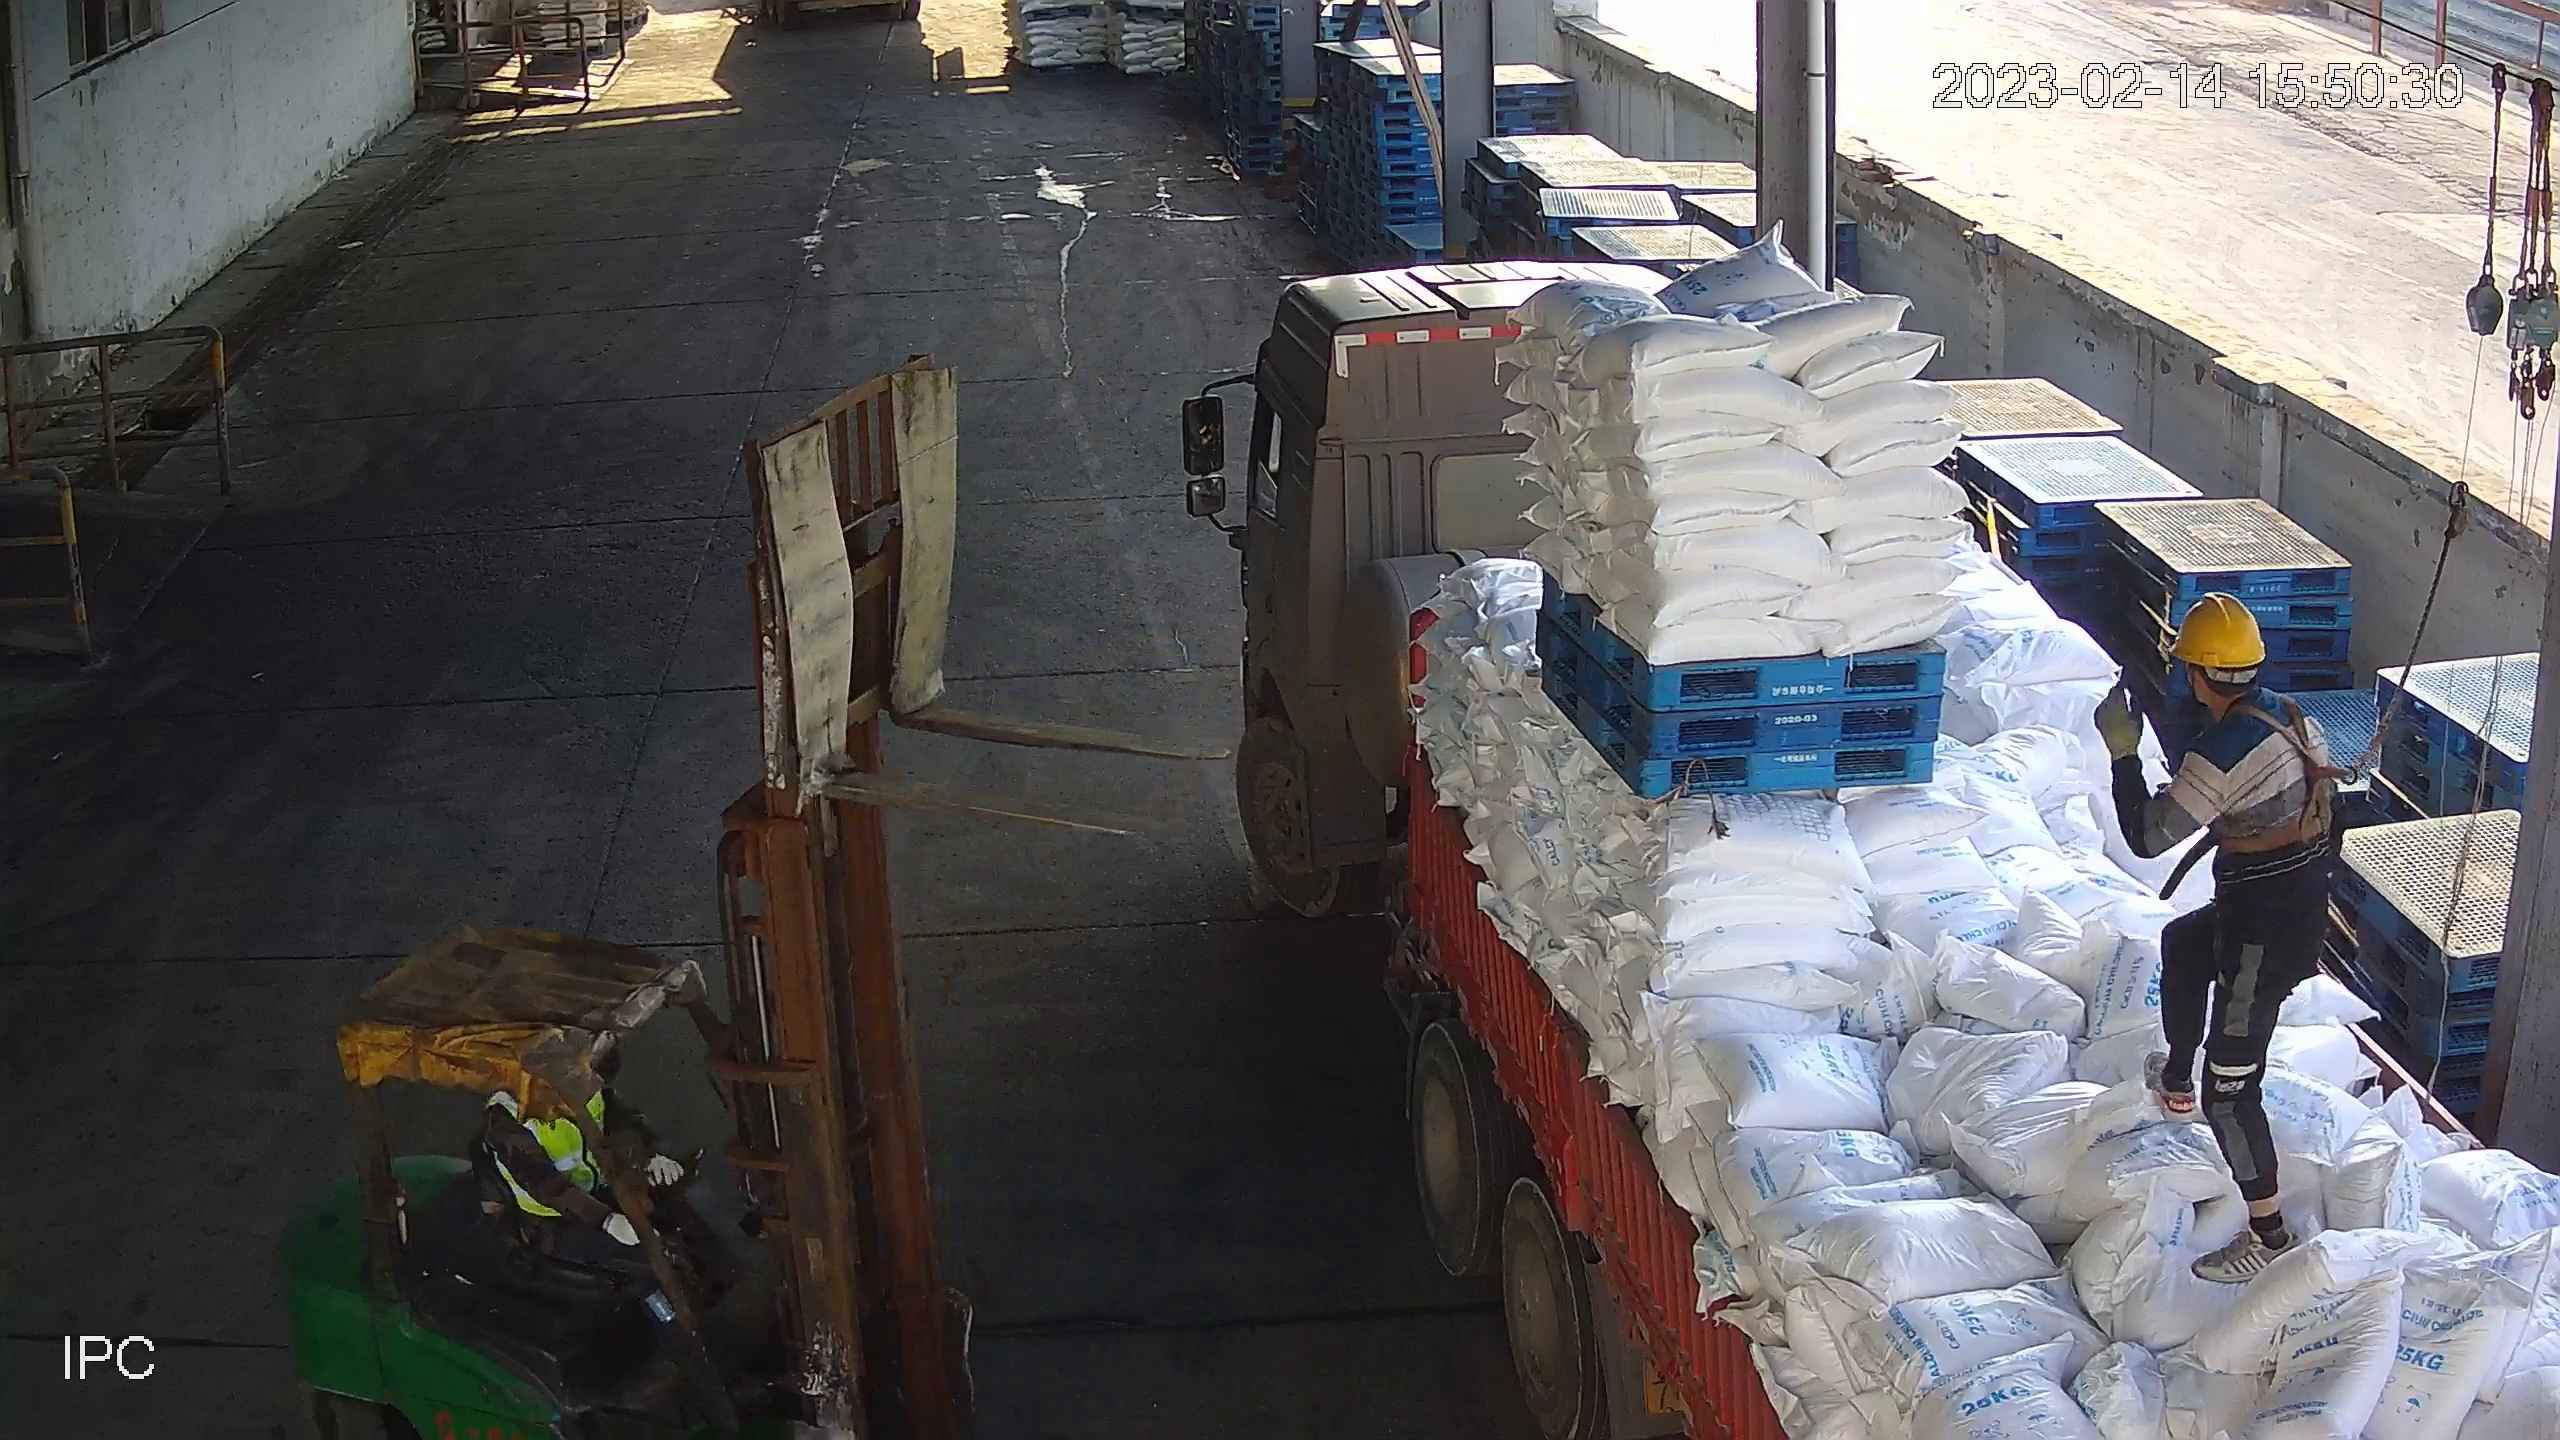belt: (2216, 694, 2372, 859)
head: (2168, 592, 2333, 776)
helmet: (2167, 592, 2269, 669)
people: (2089, 591, 2348, 1285)
truck: (1233, 265, 2560, 1440)
